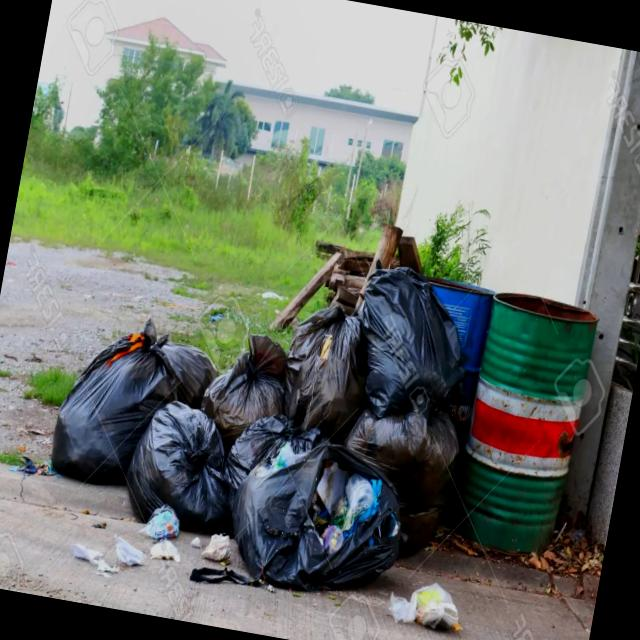garbage: (28, 175, 617, 640)
